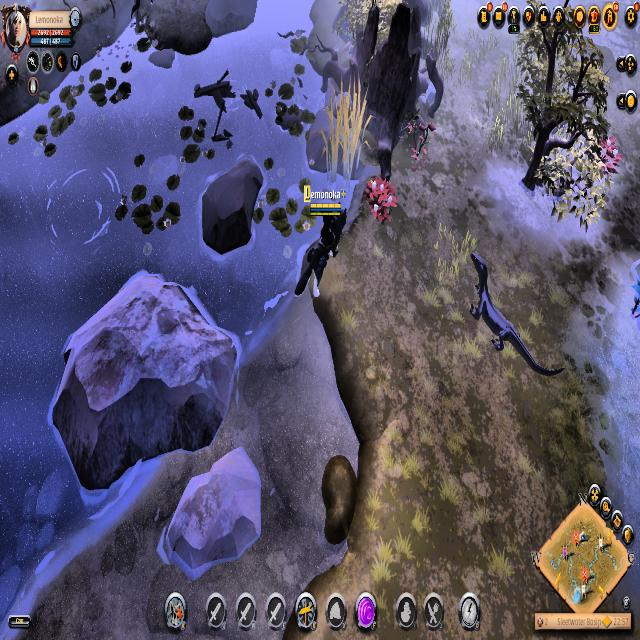fiber tier 5: (364, 169, 399, 232)
fish: (45, 159, 122, 245)
